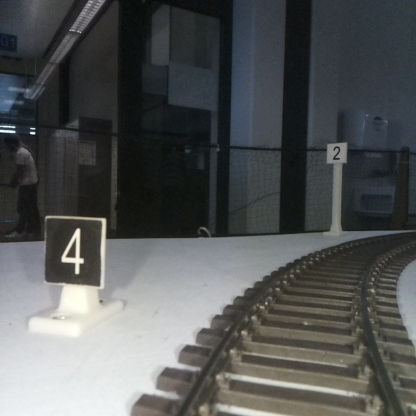black-stop-4: (45, 220, 102, 333)
white-info-2: (326, 141, 346, 232)
